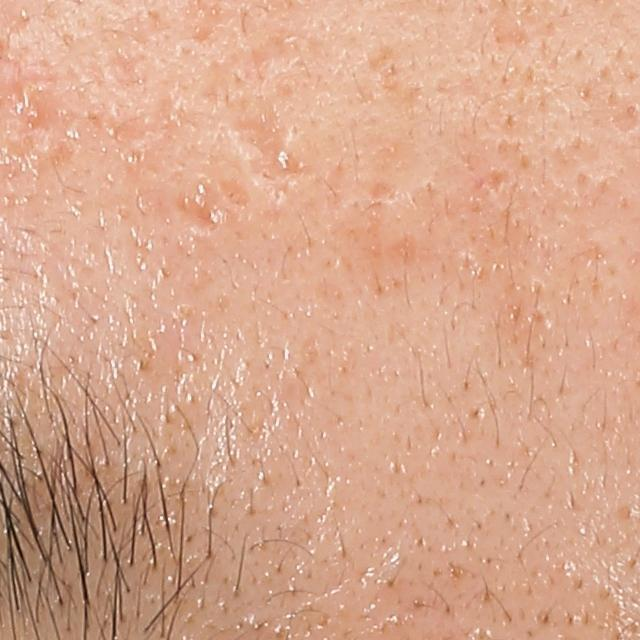atrophic_scar: (229, 95, 309, 204), (174, 180, 229, 238), (186, 67, 241, 124), (364, 177, 397, 199)
